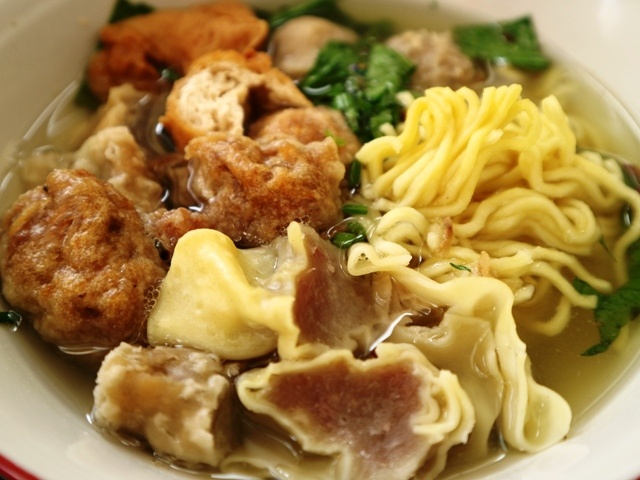bakso_malang: (3, 4, 640, 480)
